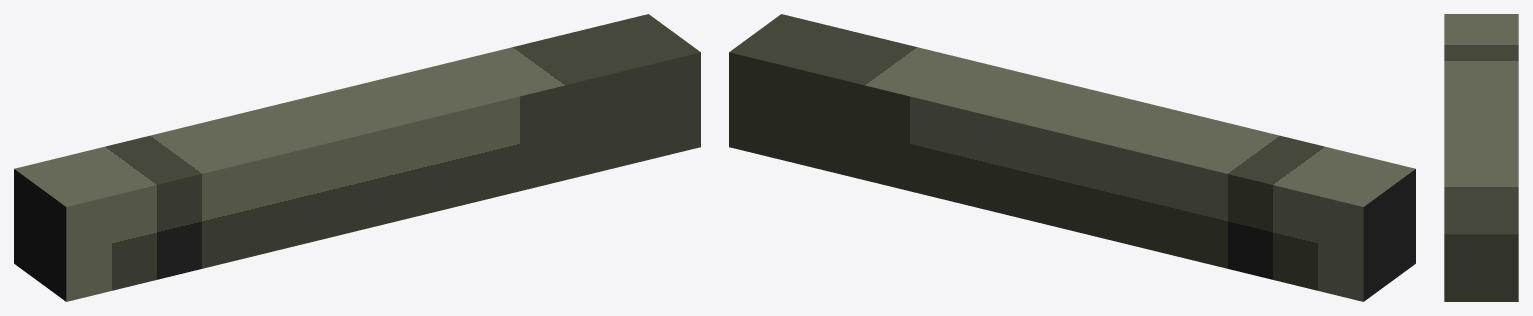
File: vehicles_ground_tank_sherman_gun.obj
3 renders of one model, left to right at view 1: azimuth 30°, elevation 25°; view 2: azimuth 150°, elevation 25°; view 3: azimuth 270°, elevation 25°, orthographic. The views are drawn at different scales.
Visible parts, largest first — view 1: cuboid; view 2: cuboid; view 3: cuboid.
Boxes of the visible parts, left/top/right/bottom form: cuboid: left=14, top=14, right=700, bottom=301; cuboid: left=729, top=14, right=1415, bottom=301; cuboid: left=1444, top=14, right=1518, bottom=301.
Bounding box in the file's own units: 0.4375 × 0.0625 × 0.0625.
1 material, 1 textured.
